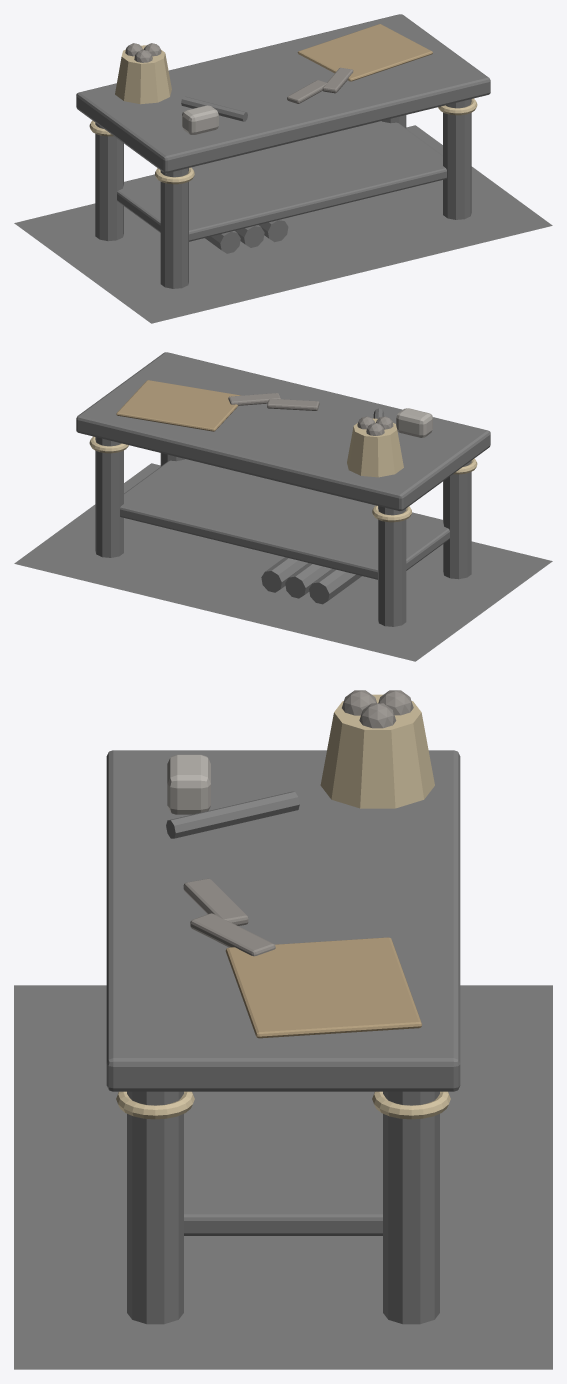
Rendered from workbench.glb.
The picture shows the model from 3 angles, top to bottom: view 1: azimuth 30°, elevation 25°; view 2: azimuth 150°, elevation 25°; view 3: azimuth 270°, elevation 25°; orthographic projection. The views are drawn at different scales.
Visible parts, largest first — view 1: ContactShadow, top, shelf, hide, leg, leg.002, leg.001, basket, hammerHead, hammerHandle, logStore, logStore.001 (+3 smaller); view 2: ContactShadow, top, shelf, hide, leg.001, leg.003, leg, basket, logStore, hammerHead, logStore.001, logStore.002 (+2 smaller); view 3: ContactShadow, top, shelf, hide, leg.002, leg.003, basket, hammerHandle, hammerHead, blade, blade.001, lash.003 (+1 smaller).
Boxes of the visible parts, x1=… form: ContactShadow: x1=14, y1=125, x2=552, y2=323; top: x1=76, y1=14, x2=490, y2=173; shelf: x1=117, y1=121, x2=446, y2=241; hide: x1=297, y1=24, x2=432, y2=81; leg: x1=160, y1=168, x2=188, y2=288; leg.002: x1=443, y1=99, x2=471, y2=219; leg.001: x1=95, y1=123, x2=123, y2=241; basket: x1=115, y1=45, x2=171, y2=104; hammerHead: x1=182, y1=105, x2=218, y2=134; hammerHandle: x1=181, y1=96, x2=247, y2=121; logStore: x1=205, y1=231, x2=240, y2=253; logStore.001: x1=235, y1=225, x2=264, y2=247; ContactShadow: x1=14, y1=463, x2=552, y2=661; top: x1=76, y1=352, x2=490, y2=511; shelf: x1=120, y1=459, x2=449, y2=579; hide: x1=116, y1=380, x2=240, y2=431; leg.001: x1=378, y1=506, x2=406, y2=626; leg.003: x1=95, y1=437, x2=123, y2=557; leg: x1=443, y1=461, x2=471, y2=579; basket: x1=347, y1=418, x2=403, y2=477; logStore: x1=309, y1=569, x2=361, y2=604; hammerHead: x1=396, y1=408, x2=432, y2=437; logStore.001: x1=285, y1=563, x2=331, y2=598; logStore.002: x1=261, y1=557, x2=307, y2=592; ContactShadow: x1=14, y1=985, x2=552, y2=1369; top: x1=106, y1=750, x2=460, y2=1091; shelf: x1=184, y1=1091, x2=382, y2=1235; hide: x1=225, y1=937, x2=422, y2=1038; leg.002: x1=127, y1=1091, x2=183, y2=1324; leg.003: x1=383, y1=1091, x2=439, y2=1324; basket: x1=320, y1=694, x2=434, y2=808; hammerHandle: x1=166, y1=791, x2=299, y2=838; hammerHead: x1=167, y1=754, x2=210, y2=814; blade: x1=190, y1=913, x2=275, y2=956; blade.001: x1=183, y1=878, x2=248, y2=925; lash.003: x1=116, y1=1091, x2=194, y2=1119.
Size of the model in its own units: 2.7 by 1.23 by 1.6.
9 materials, 4 textured.
